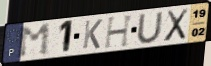1: (57, 19, 74, 55)
H: (103, 13, 136, 50)
K: (81, 18, 104, 51)
M: (18, 22, 51, 60)
U: (136, 10, 165, 45)
X: (162, 7, 190, 43)
